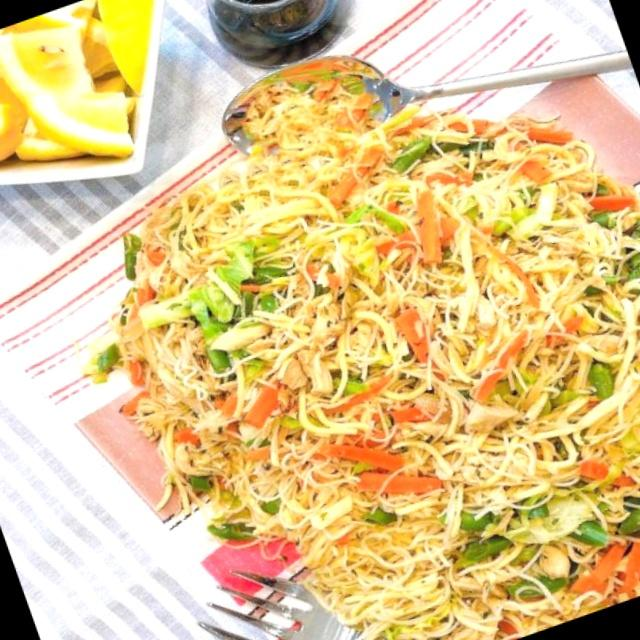pancit bihon: (114, 84, 639, 630)
